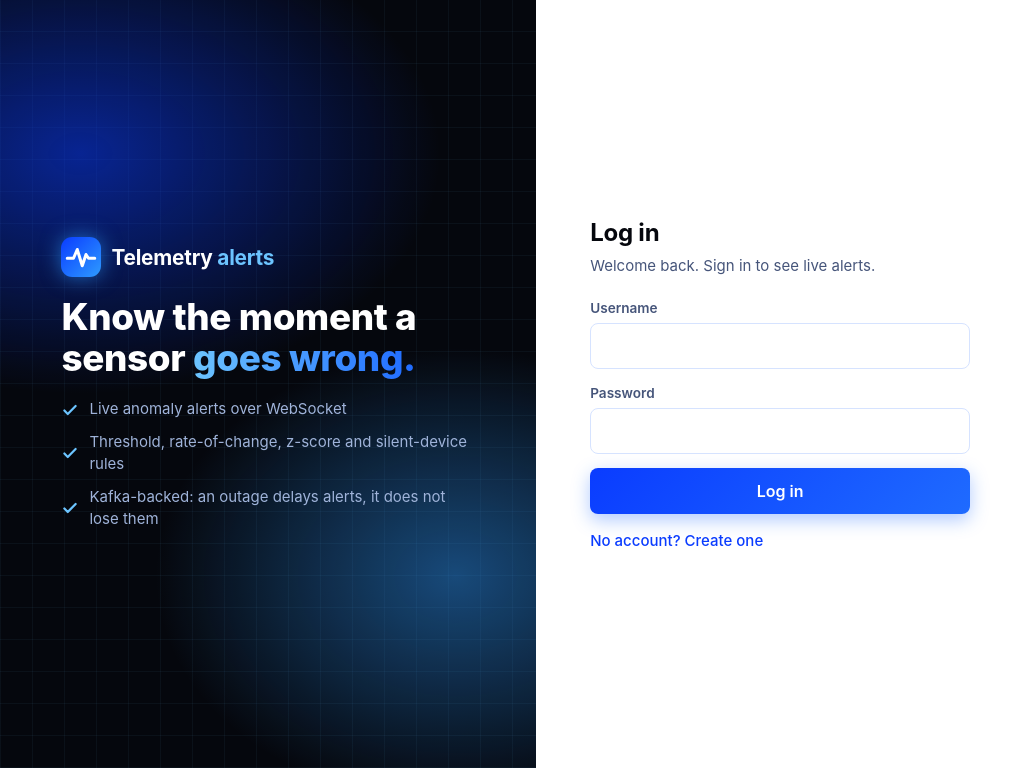
login flow › shows the login page without a session, then the dashboard after logging in
Check: the heading "Log in" is shown, box 590,218 -> 659,247
Type "vic" into the field labelled "Username". click: (780, 346)
box: 590,323 -> 970,369
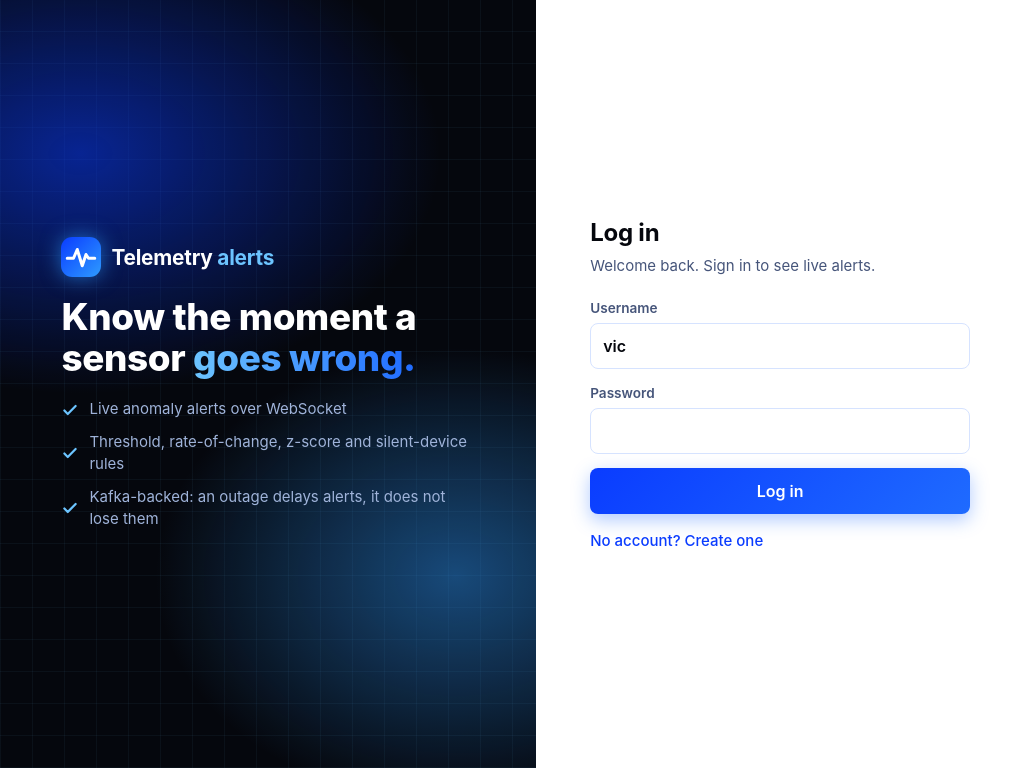
Type "right-password" into the password field labelled "Password". click: (780, 431)
box: 590,408 -> 970,454
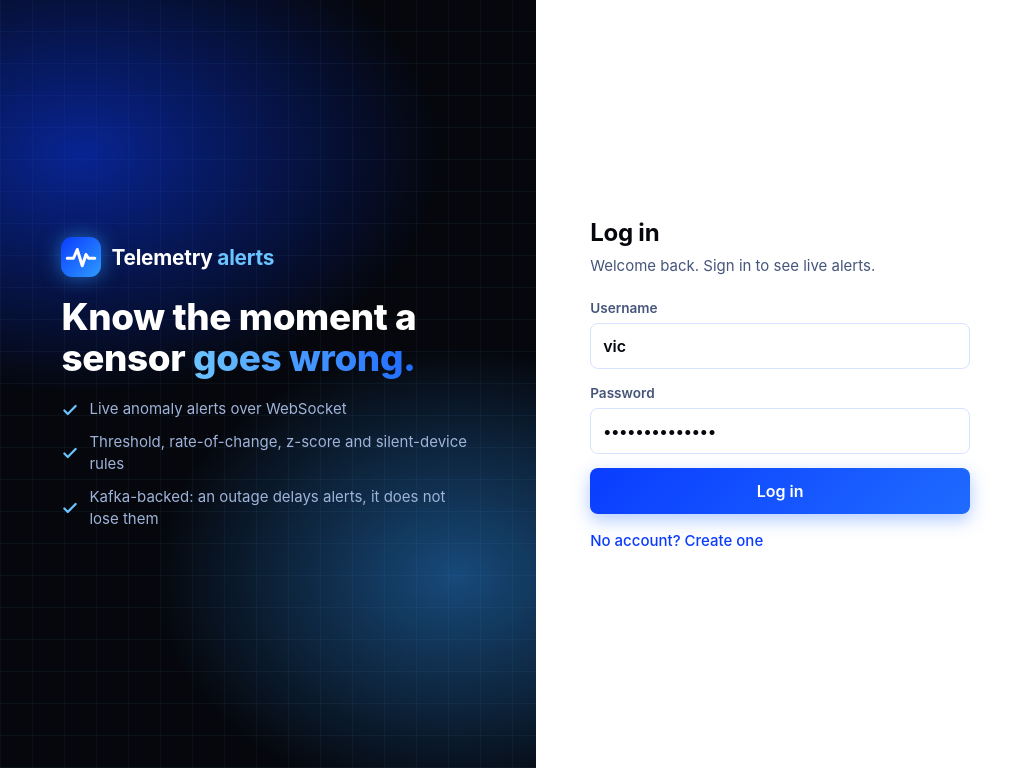
Click the button "Log in". click: (780, 491)
box: 590,468 -> 970,514
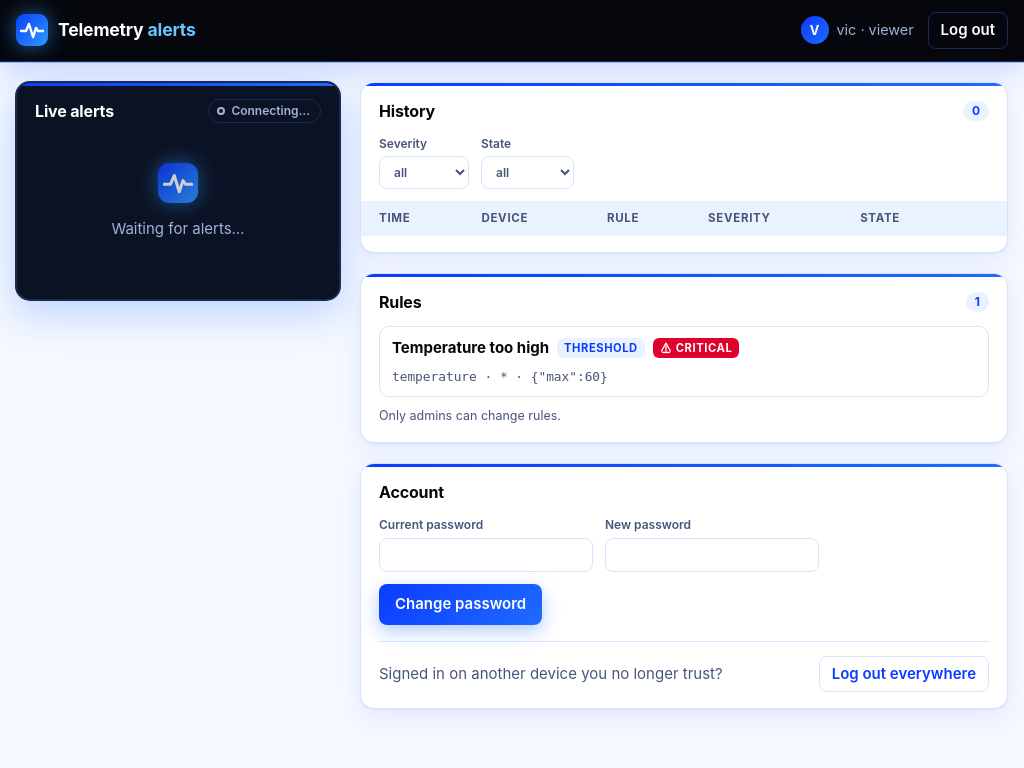
Check: the text "vic · viewer" is shown, box 836,19 -> 914,41
Check: the text "Temperature too high" is shown, box 392,337 -> 549,359
